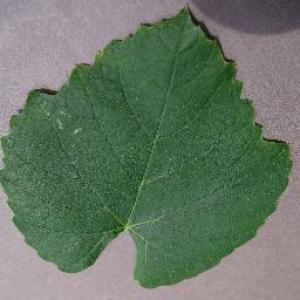Folha: (0, 3, 293, 290)
